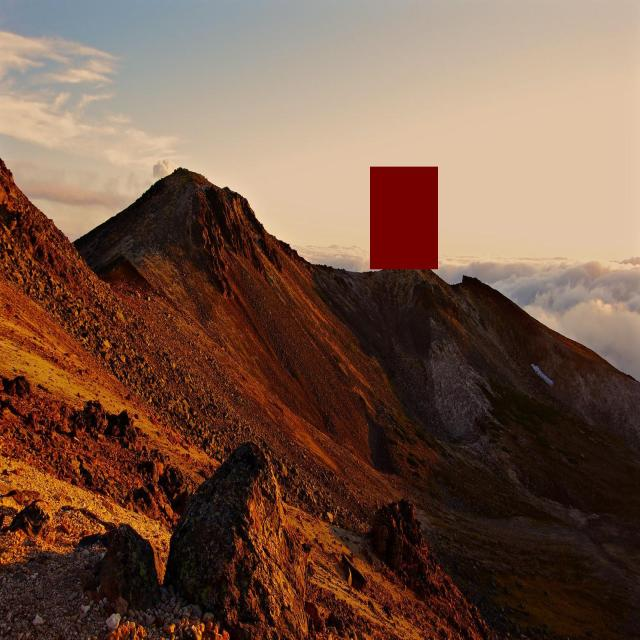RedSquare: (364, 155, 445, 279)
